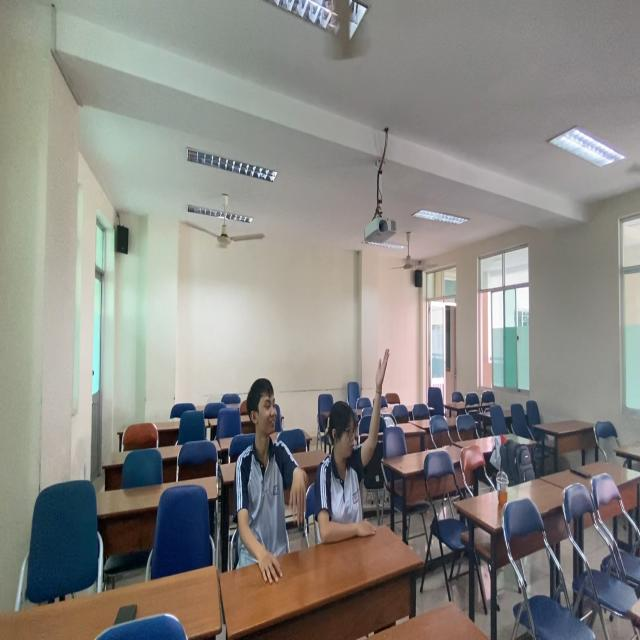raise_hand: (315, 346, 394, 544)
